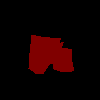shorts: (28, 34, 74, 74)
